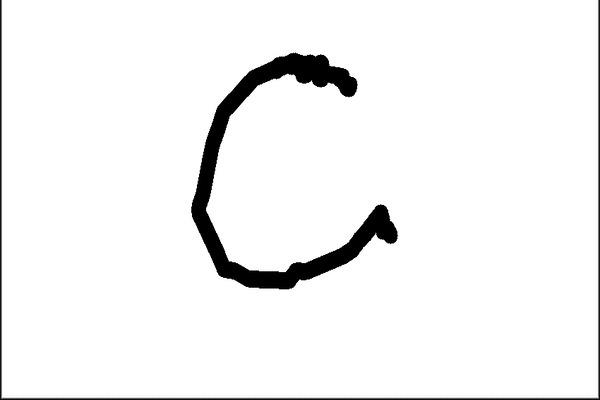C: (185, 45, 404, 293)
